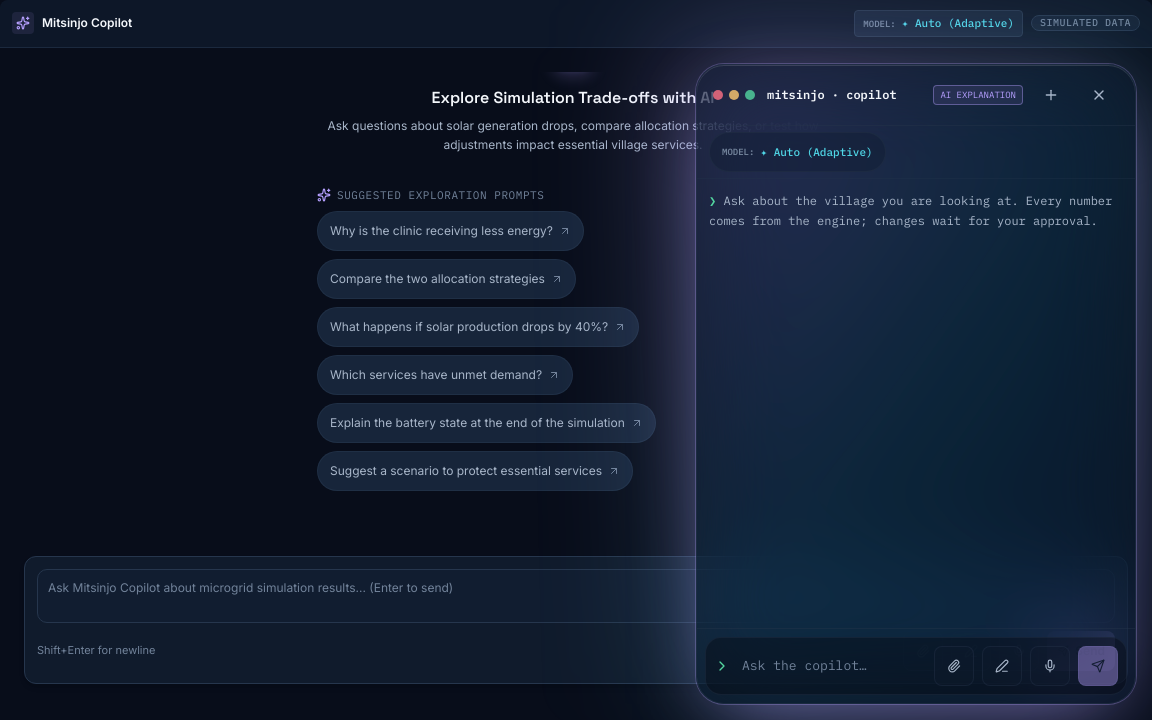
Scenario: CopilotTerminal (glass chat over the full-screen village) › shares one conversation with the copilot tab
The image size is (1152, 720).
(page scrolled)
Type "Why is the clinic short?" into the text box with placeholder "Ask the copilot…" at {"x": 832, "y": 666}, box [738,646,926,686]
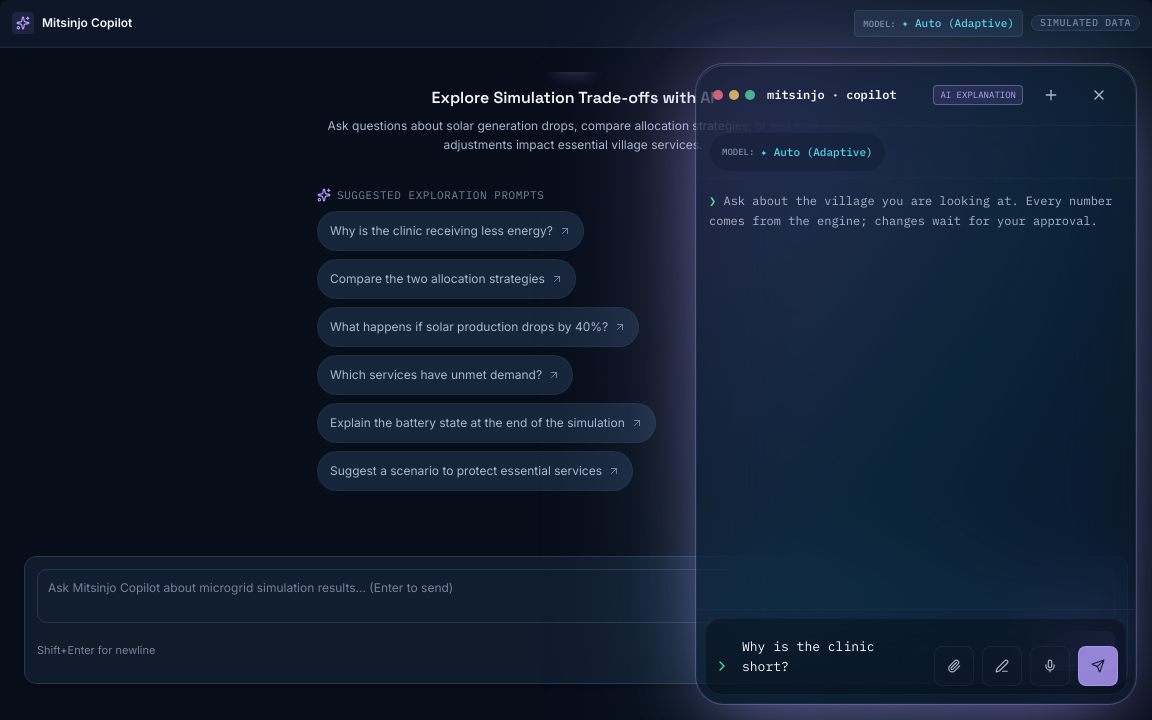
Press Enter in the text box named "Ask Copilot a question", box [738,627,926,686]
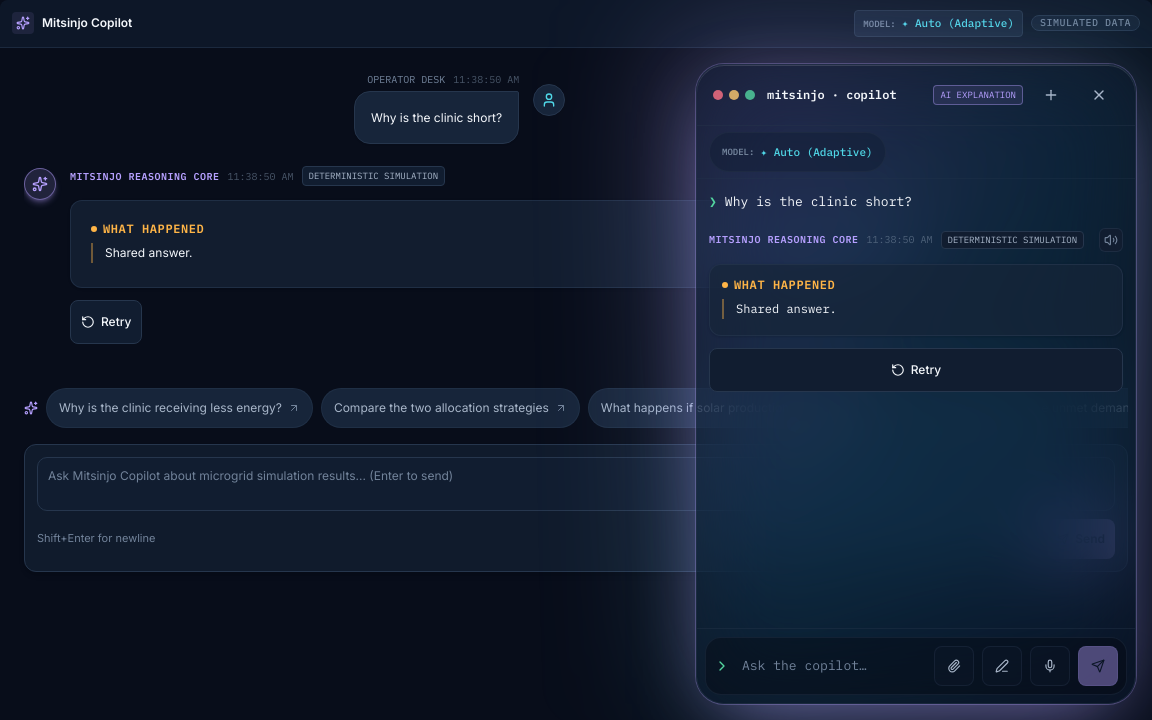
Now the 2nd text "Shared answer." is shown, box [736,301,837,316]
Now the element that starts with "OPERATOR DESK" shows "Why is the clinic short?", box [371,110,502,124]
Now the text "Why is the clinic short?" is shown, box [725,193,912,210]
